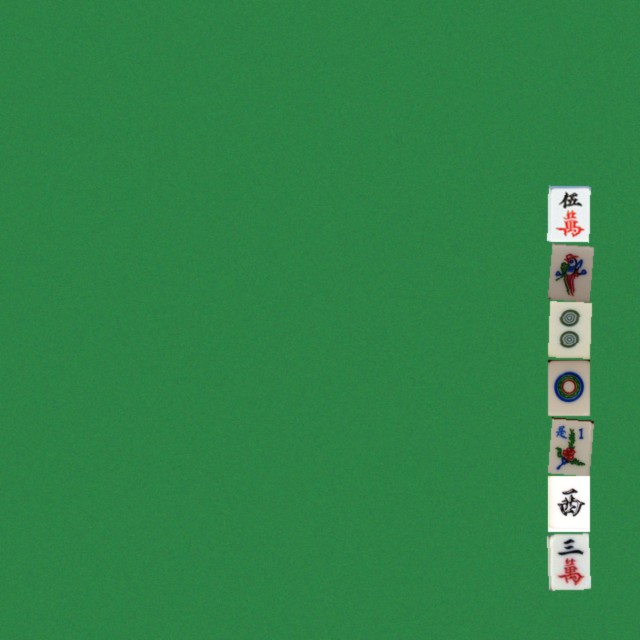tile: (547, 185, 589, 241), (547, 243, 589, 299), (547, 301, 589, 357), (547, 359, 589, 415), (547, 417, 589, 473), (547, 475, 589, 531), (547, 533, 589, 589)
